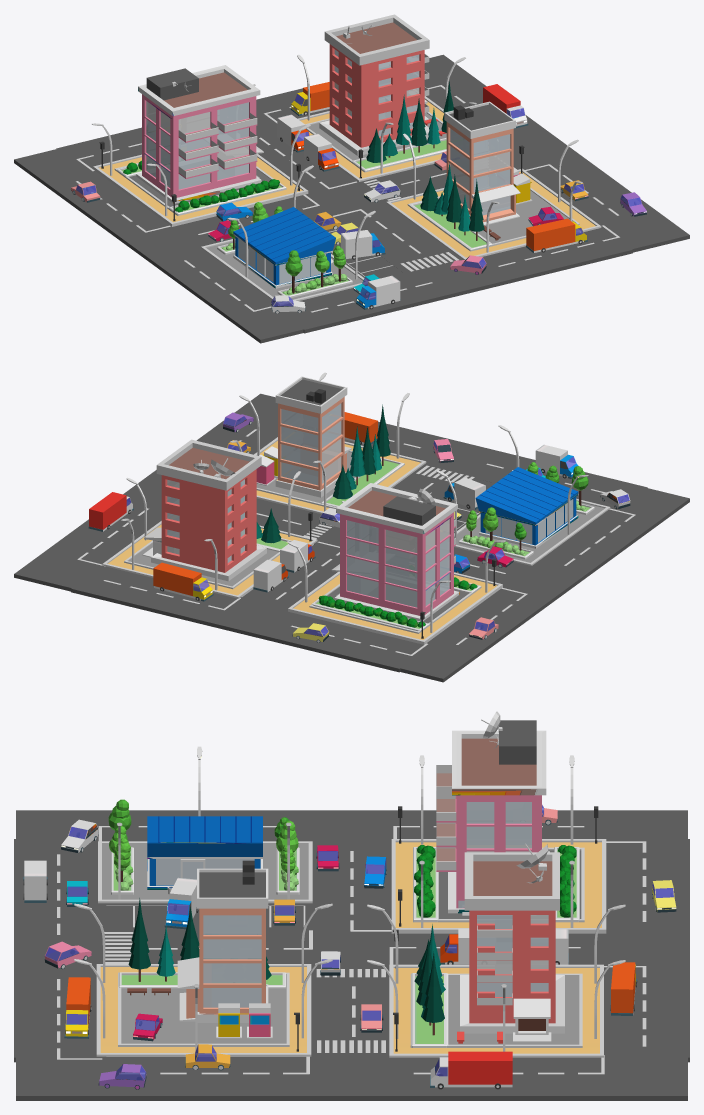
The model's file is City 3.glb.
3 views of the same model, one above another, from view 1: azimuth 30°, elevation 25°; view 2: azimuth 150°, elevation 25°; view 3: azimuth 270°, elevation 25° (orthographic). The views are drawn at different scales.
Parts seen in each view (by area): view 1: Houses, Road, Cars, Glass_House_Windows_1, Fauna, Street_Lamps, Car_Windows, Glass_House_Windows_Lit; view 2: Road, Houses, Cars, Glass_House_Windows_1, Fauna, Street_Lamps, Glass_House_Windows_Lit, Car_Windows, Antennae; view 3: Road, Houses, Cars, Glass_House_Windows_1, Fauna, Street_Lamps, Car_Windows, Glass_House_Windows_Lit, Antennae, Traffic_Lights.
Part boxes in pixels (x1,y1,x2,y2): Houses: (93, 14, 601, 305); Road: (14, 54, 689, 343); Cars: (71, 82, 646, 313); Glass_House_Windows_1: (146, 49, 510, 284); Fauna: (123, 81, 484, 294); Street_Lamps: (92, 54, 582, 279); Car_Windows: (76, 94, 641, 306); Glass_House_Windows_Lit: (146, 88, 510, 208); Road: (14, 393, 689, 682); Houses: (102, 376, 610, 644); Cars: (88, 412, 630, 642); Glass_House_Windows_1: (167, 403, 573, 607); Fauna: (256, 404, 588, 627); Street_Lamps: (121, 372, 588, 632); Glass_House_Windows_Lit: (167, 438, 449, 554); Car_Windows: (126, 416, 629, 636); Antennae: (193, 458, 434, 505); Road: (14, 810, 689, 1100); Houses: (96, 720, 606, 1057); Cars: (23, 805, 676, 1089); Glass_House_Windows_1: (156, 802, 548, 1007); Fauna: (108, 799, 576, 1035); Street_Lamps: (74, 746, 625, 1051); Car_Windows: (45, 805, 673, 1080); Glass_House_Windows_Lit: (466, 851, 548, 974); Antennae: (481, 711, 548, 883); Traffic_Lights: (294, 806, 598, 1051).
Bounding box in the file's own units: 2192 × 609 × 2192.
8 materials, 1 textured.
